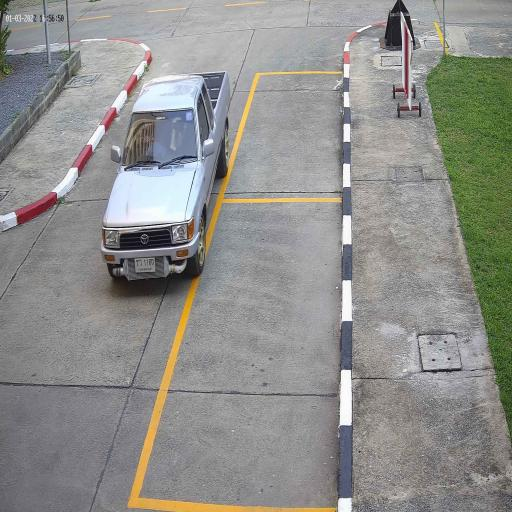car: (99, 69, 232, 286)
